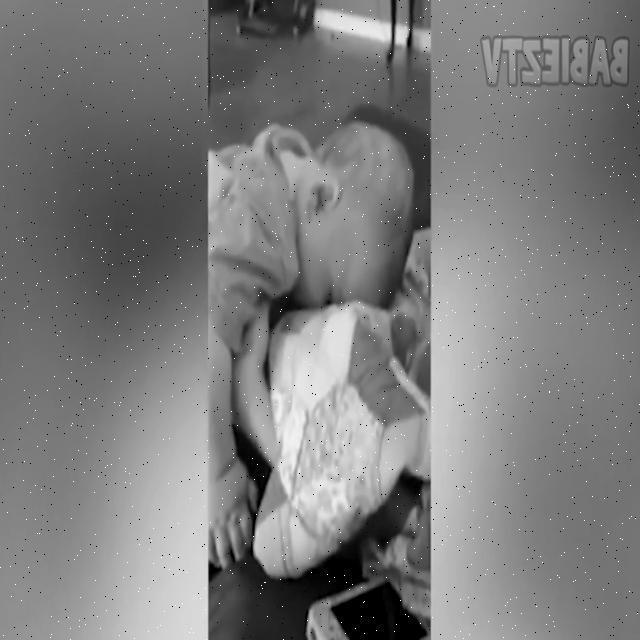child: (208, 120, 416, 577)
